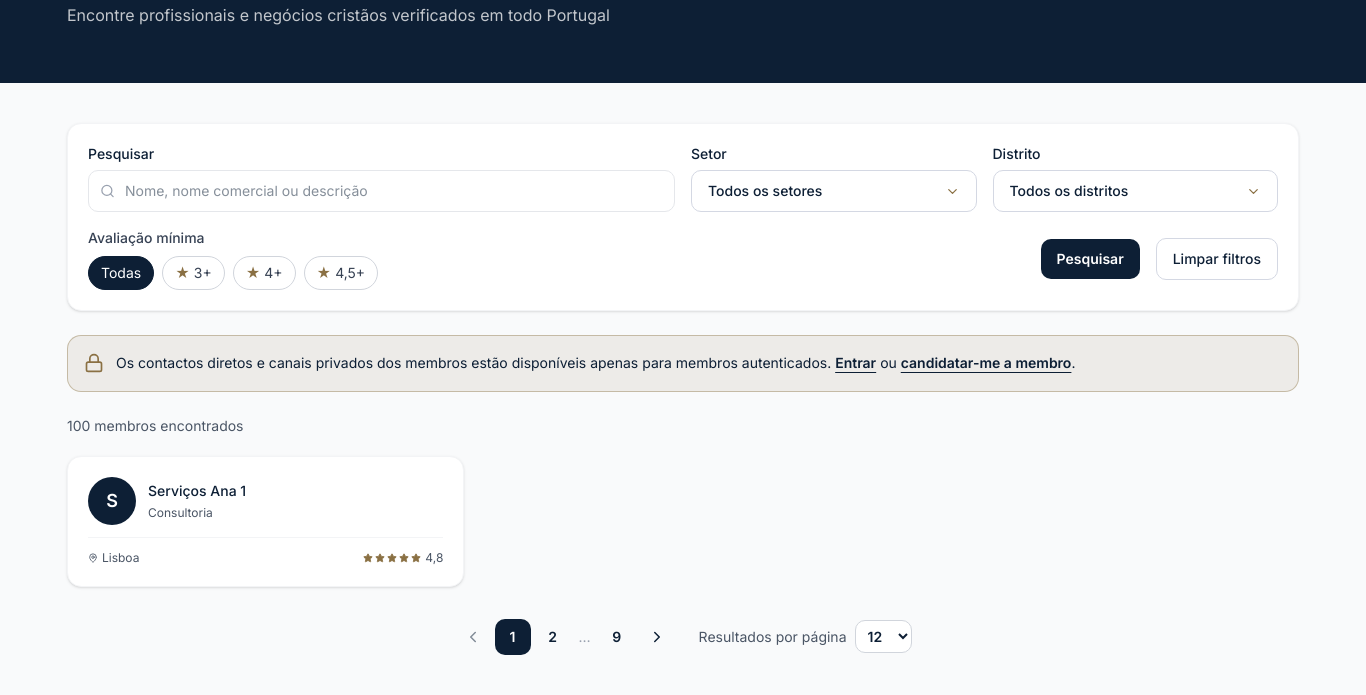
Test case: Diretório de membros: filtros e página no endereço › mudar de página e de número por página atualiza o endereço
The image size is (1366, 695).
(page scrolled)
Expected: the heading "Serviços Ana 1" is shown, [148,481,246,501]
Click the button named "Página seguinte" at (657, 637), box [639,619,675,655]
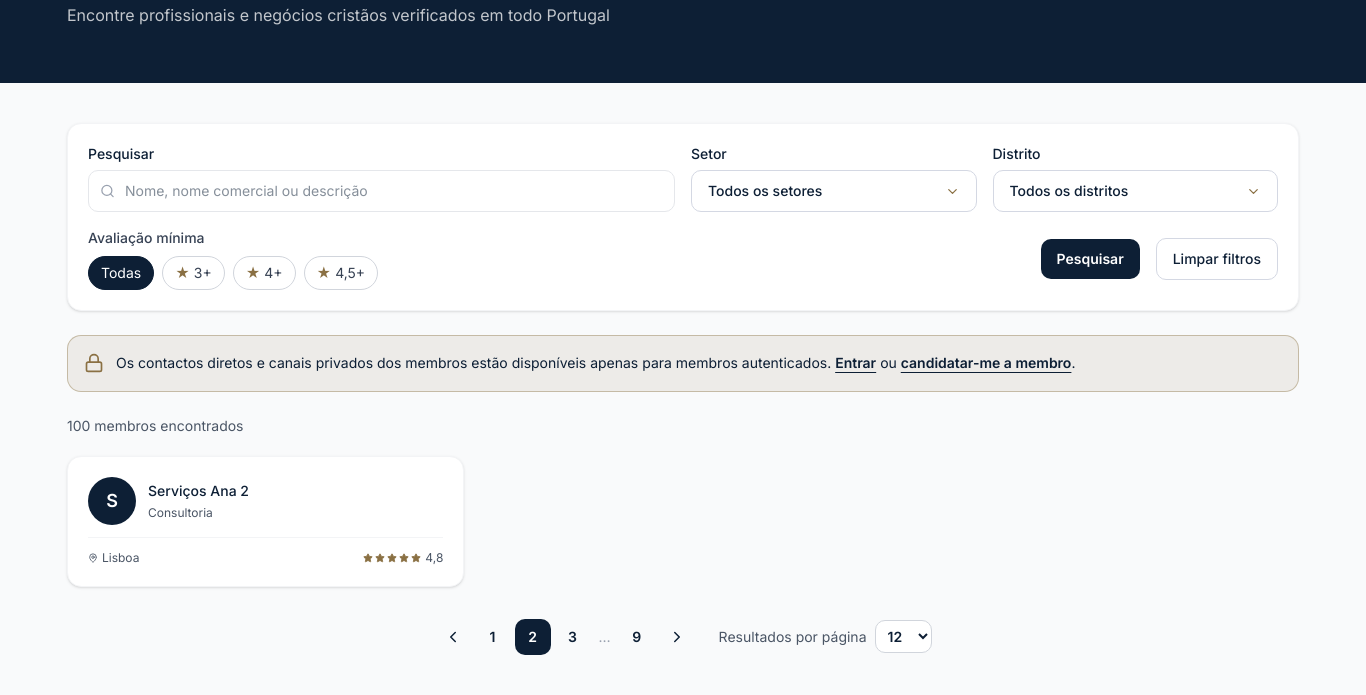
Select "24" in the dropdown labelled "Resultados por página" at (903, 637), box [874,620,932,653]
(page scrolled)
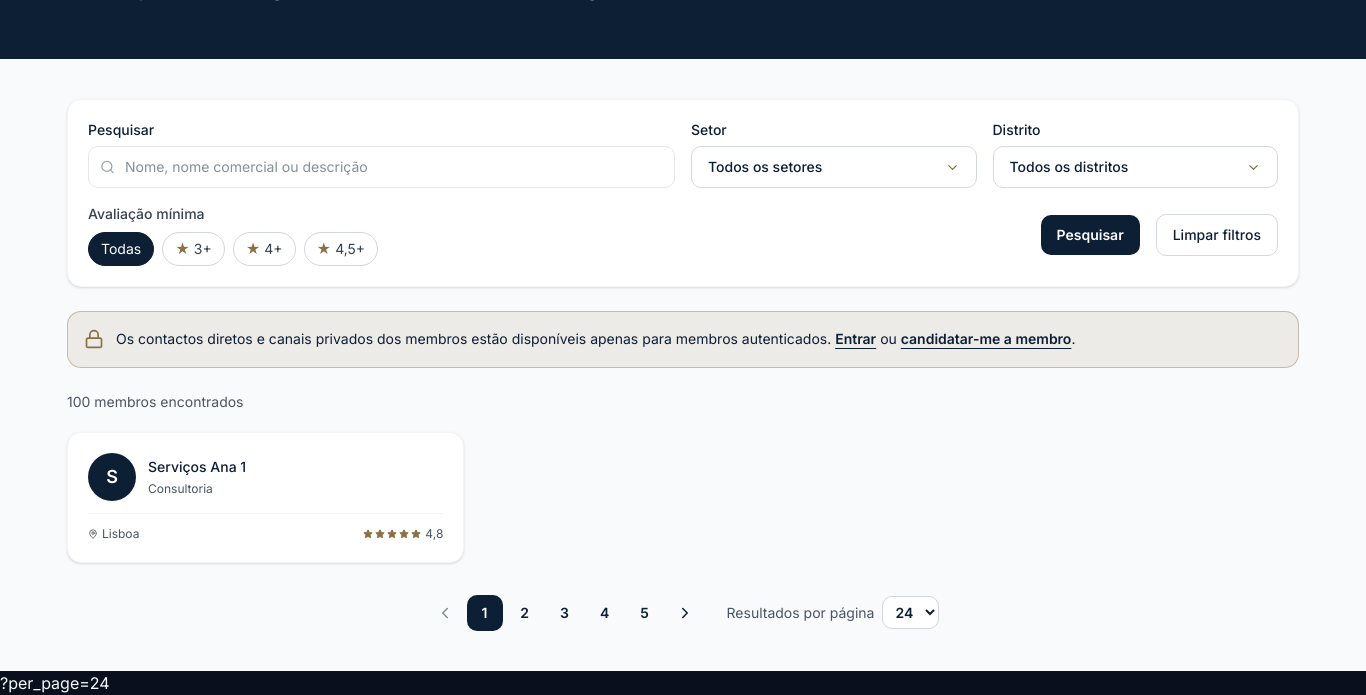
Now the text with test id "location" reads "?per_page=24", box [0,673,110,693]
